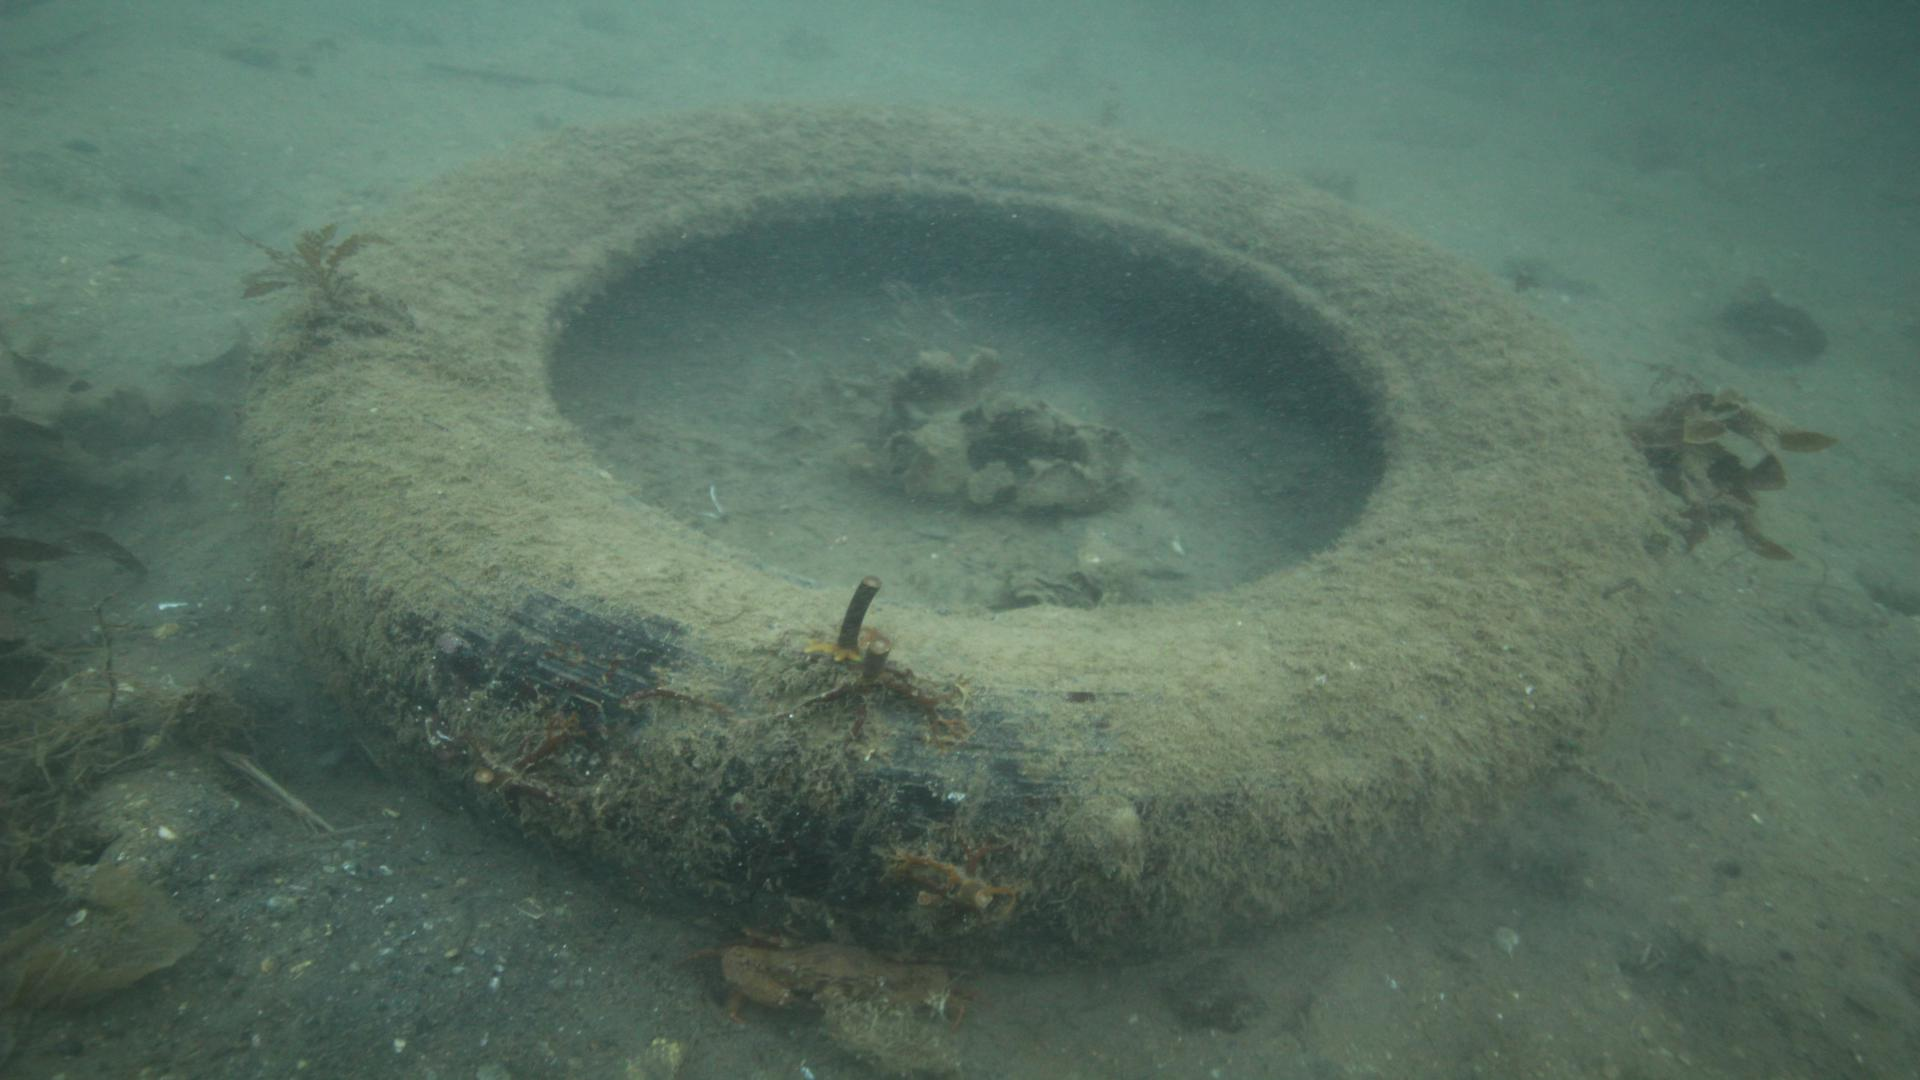tire: (239, 99, 1677, 975)
